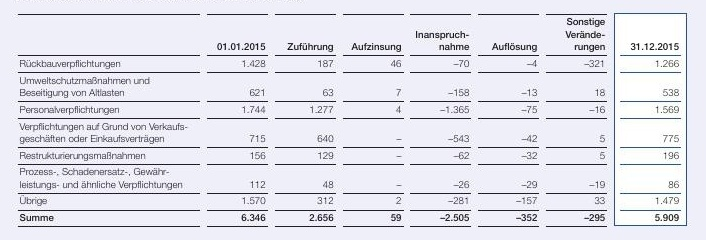table: (0, 0, 706, 240)
